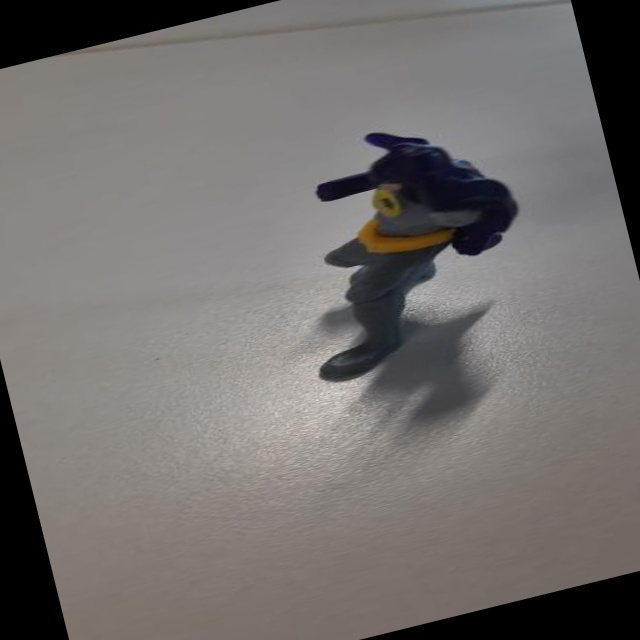Batman: (249, 102, 545, 395)
